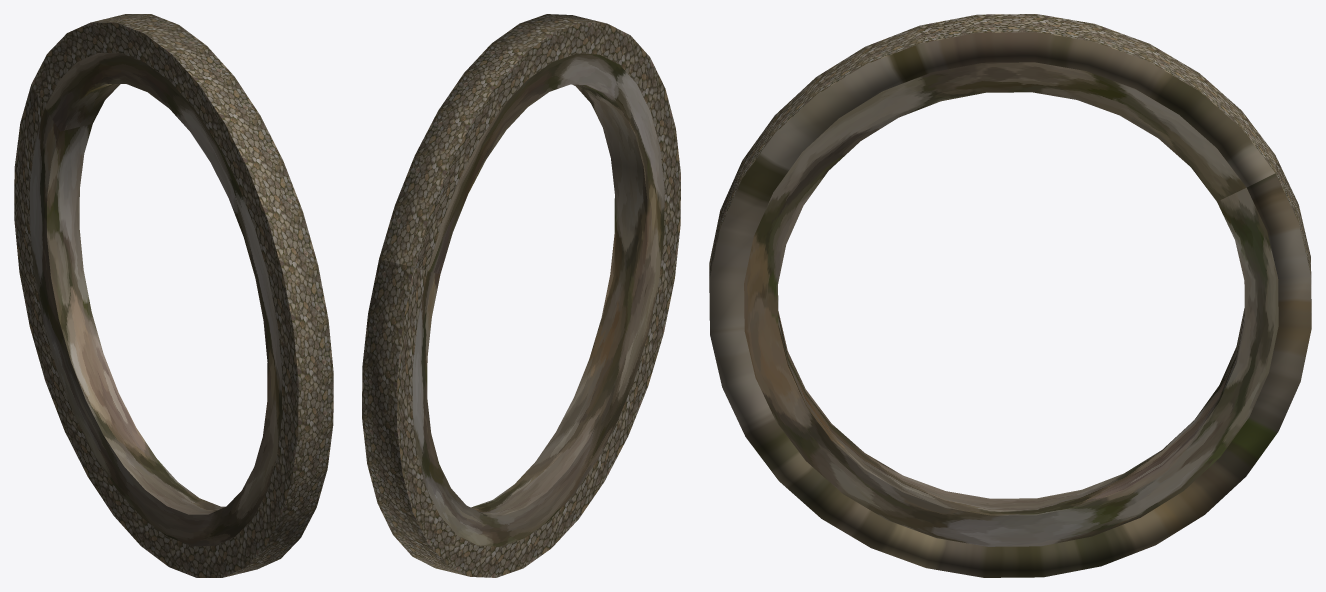
The model's file is wall_wheel.glb.
The picture shows the model from 3 angles, left to right: view 1: azimuth 30°, elevation 25°; view 2: azimuth 150°, elevation 25°; view 3: azimuth 270°, elevation 25°; orthographic projection. The views are drawn at different scales.
Parts seen in each view (by area): view 1: WallWheel; view 2: WallWheel; view 3: WallWheel.
Part boxes in pixels (<box>): WallWheel: <box>14,14,333,577</box>; WallWheel: <box>362,14,680,577</box>; WallWheel: <box>709,14,1311,577</box>.
Bounding box in the file's own units: 4 × 56.11 × 56.11.
1 material, 1 textured.
